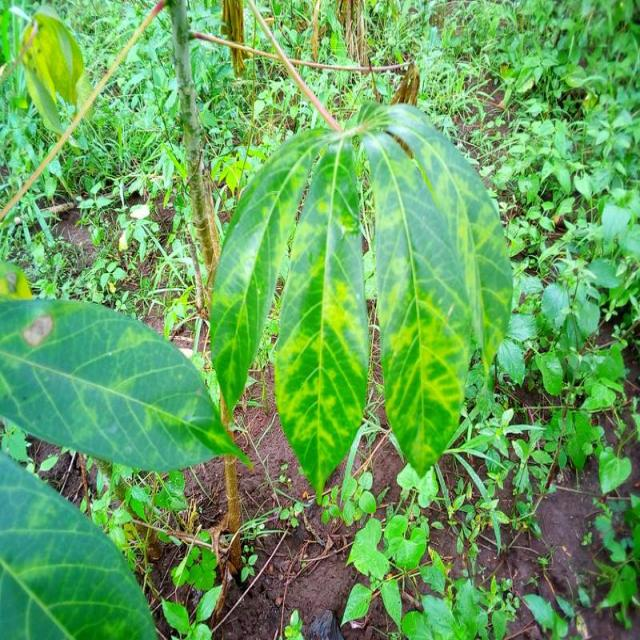cassava leaf: (356, 100, 514, 478), (0, 293, 253, 474), (208, 125, 340, 418), (272, 135, 370, 502), (0, 450, 158, 638), (19, 7, 85, 136)
